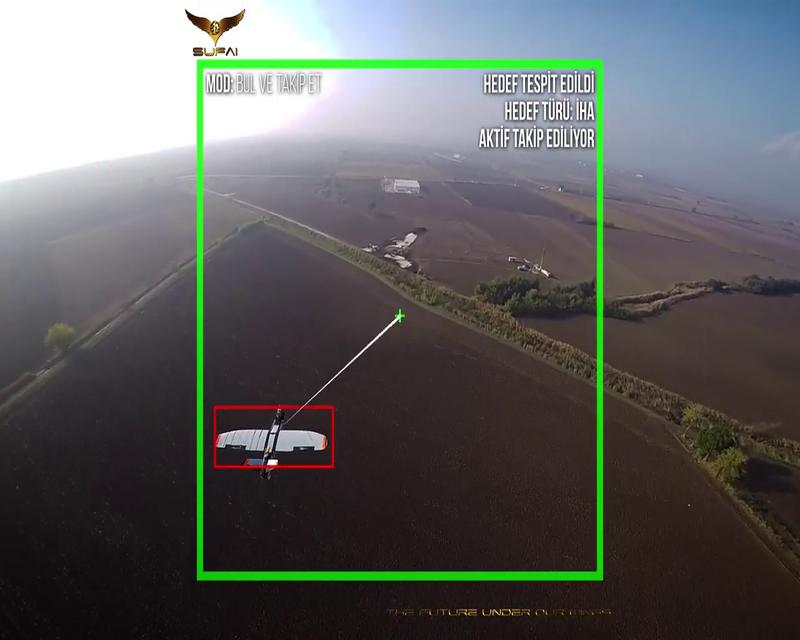UAV: (214, 407, 331, 479)
